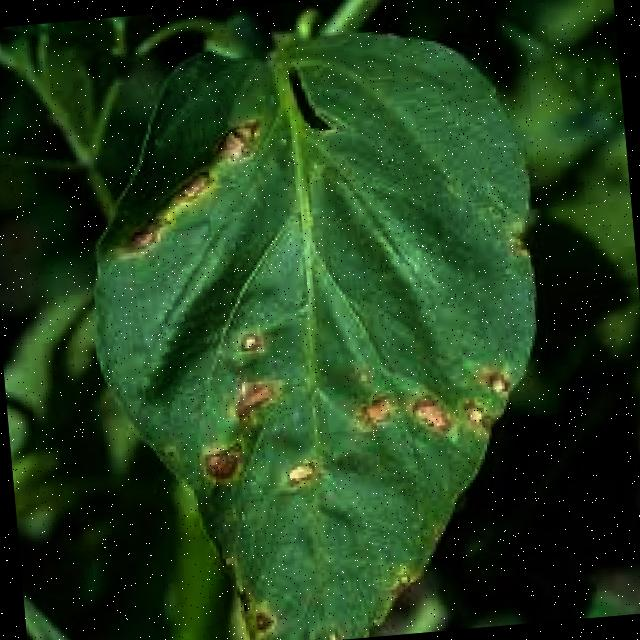leaf spot: (60, 9, 578, 640)
